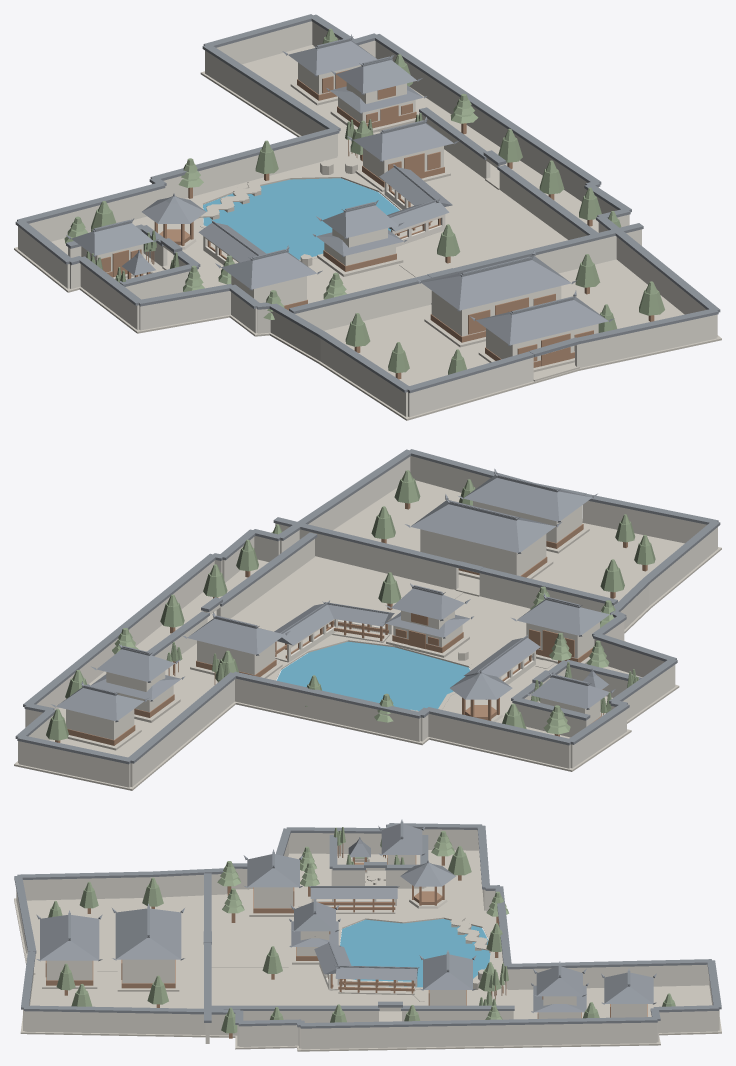
The model's file is wangshiyuan.glb.
The picture shows the model from 3 angles, top to bottom: view 1: azimuth 30°, elevation 25°; view 2: azimuth 150°, elevation 25°; view 3: azimuth 270°, elevation 25°; orthographic projection. The views are drawn at different scales.
Visible parts, largest first — view 1: wsh_wall, wsh_tile, wsh_stone, wsh_leaf, wsh_water, wsh_wood; view 2: wsh_wall, wsh_tile, wsh_stone, wsh_leaf, wsh_water, wsh_wood; view 3: wsh_tile, wsh_stone, wsh_wall, wsh_leaf, wsh_water, wsh_wood.
Boxes of the visible parts, left/top/right/bottom form: wsh_wall: left=18, top=21, right=717, bottom=417; wsh_tile: left=15, top=14, right=720, bottom=393; wsh_stone: left=14, top=45, right=721, bottom=420; wsh_leaf: left=64, top=28, right=664, bottom=374; wsh_water: left=203, top=178, right=399, bottom=259; wsh_wood: left=101, top=69, right=654, bottom=379; wsh_wall: left=18, top=456, right=717, bottom=787; wsh_tile: left=15, top=449, right=720, bottom=764; wsh_stone: left=14, top=480, right=721, bottom=790; wsh_leaf: left=46, top=470, right=655, bottom=740; wsh_water: left=277, top=641, right=470, bottom=711; wsh_wood: left=55, top=503, right=647, bottom=745; wsh_tile: left=14, top=819, right=721, bottom=1028; wsh_stone: left=14, top=850, right=721, bottom=1051; wsh_wall: left=16, top=829, right=719, bottom=1049; wsh_leaf: left=48, top=827, right=675, bottom=1033; wsh_water: left=340, top=919, right=490, bottom=987; wsh_wood: left=45, top=843, right=647, bottom=1038.
Bounding box in the file's own units: 73.15 × 8.66 × 108.
